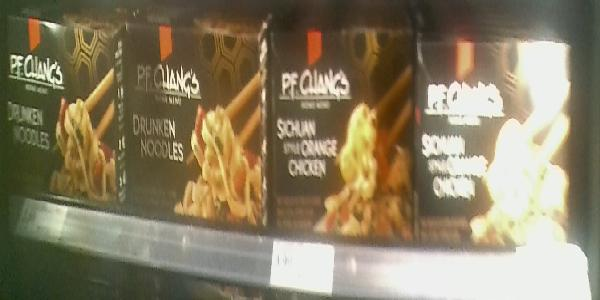pizza1: (268, 22, 415, 245), (419, 39, 570, 249), (125, 11, 264, 235), (5, 15, 122, 212)
